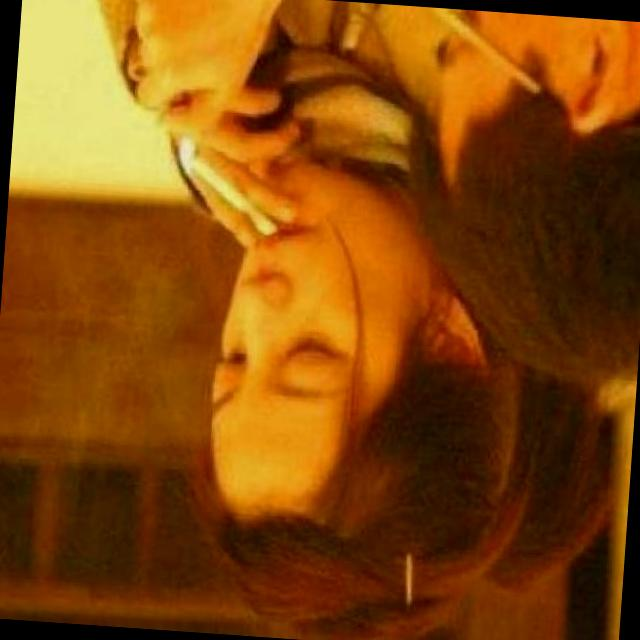smoke: (181, 146, 287, 238)
